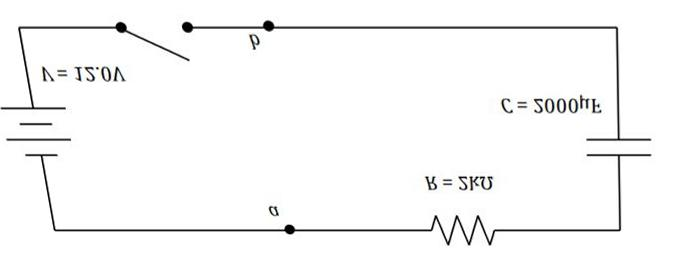resistor: (407, 208, 515, 246)
